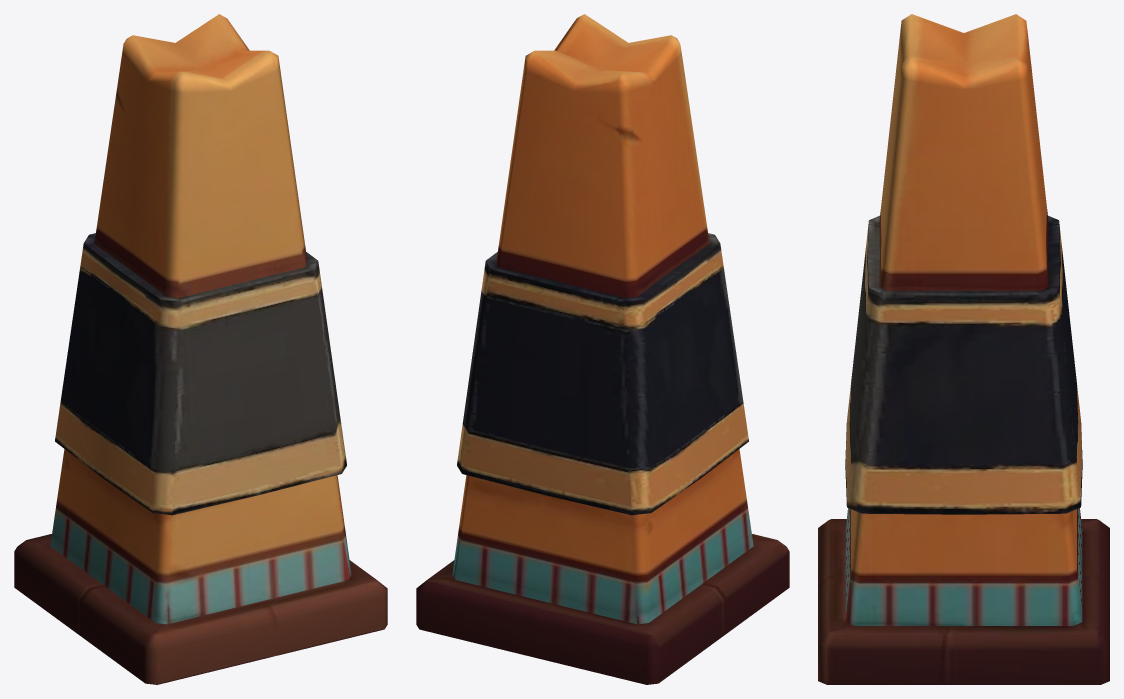
The model's file is obelisk-art.glb.
3 renders of one model, left to right at view 1: azimuth 30°, elevation 25°; view 2: azimuth 150°, elevation 25°; view 3: azimuth 270°, elevation 25°, orthographic. The views are drawn at different scales.
Visible parts, largest first — view 1: Obelisk_Art; view 2: Obelisk_Art; view 3: Obelisk_Art.
Part boxes in pixels (x1,y1,x2,y2): Obelisk_Art: [14, 14, 387, 684]; Obelisk_Art: [416, 14, 789, 684]; Obelisk_Art: [818, 14, 1109, 684].
Bounding box in the file's own units: 2.72 × 6.05 × 2.72.
Materials: 1 (1 with a texture image).
